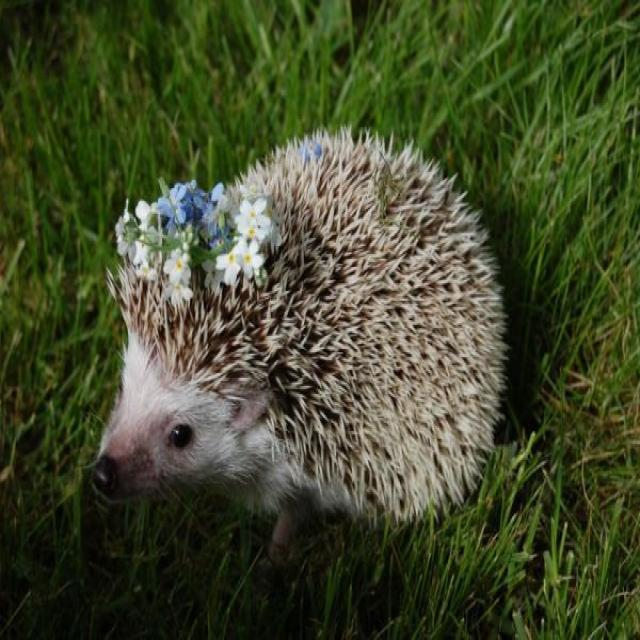Hedgehog: (95, 132, 513, 559)
